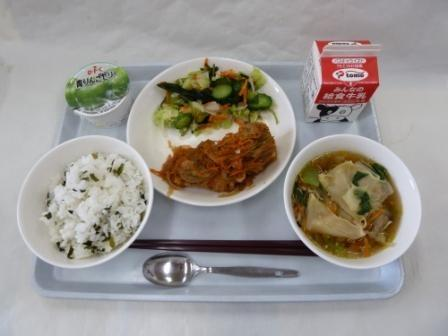Cup desserts: (46, 55, 143, 130)
Meat: (161, 124, 283, 199)
Milk: (302, 37, 384, 121)
Rice: (22, 133, 141, 268)
Salad: (147, 60, 280, 126)
Soups: (285, 135, 422, 267)
